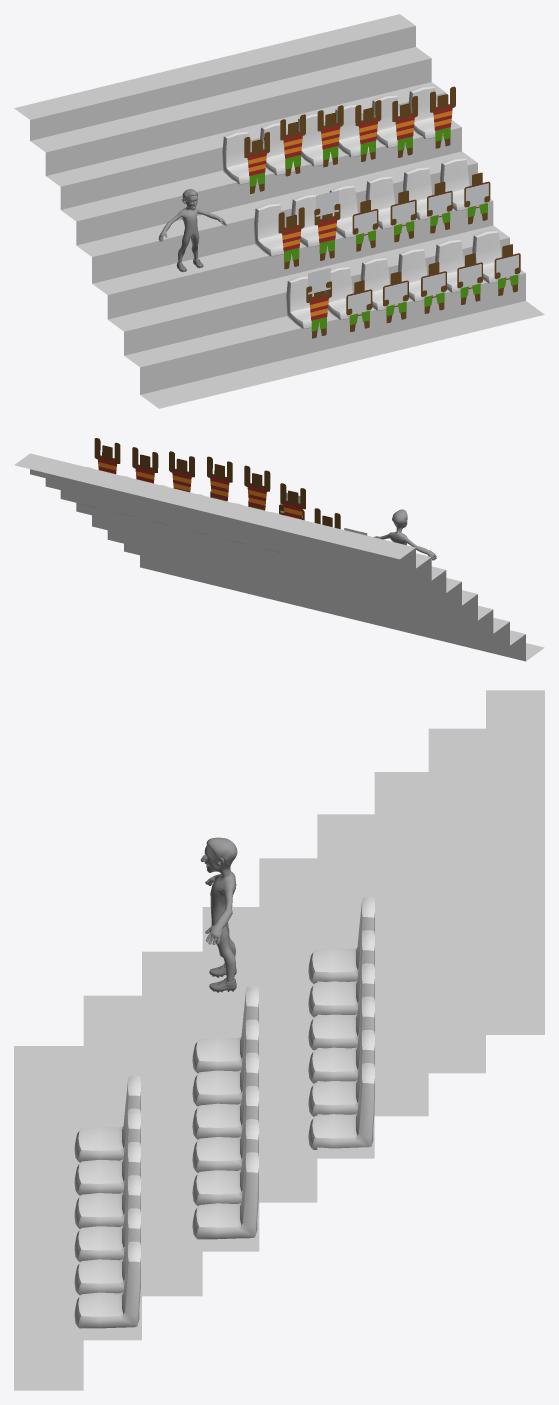
Rendered from camera.fbx.
3 renders of one model, top to bottom at view 1: azimuth 30°, elevation 25°; view 2: azimuth 150°, elevation 25°; view 3: azimuth 270°, elevation 25°, orthographic. The views are drawn at different scales.
Visible parts, largest first — view 1: Line001, Object002, Object018, Box007, Maos, Box013, Box010, Box012, Box001, Box006, Box004, Object013 (+26 smaller); view 2: Line001, Object012, Object013, Object014, Object016, Object015, Object011, Maos, Object001; view 3: Line001, Box012, Box006, Box018, Maos, Box003, Box008, Box007, Box010, Box009, Box013, Box002 (+8 smaller).
Part boxes in pixels (<box>): Line001: <box>14,14,544,408</box>; Object002: <box>314,190,340,260</box>; Object018: <box>306,268,331,338</box>; Box007: <box>254,203,283,256</box>; Maos: <box>158,195,226,263</box>; Box013: <box>222,131,257,184</box>; Box010: <box>365,176,394,229</box>; Box012: <box>440,157,469,210</box>; Box001: <box>286,275,327,328</box>; Box006: <box>472,230,509,283</box>; Box004: <box>398,248,435,301</box>; Object013: <box>317,105,343,167</box>; Line001: <box>14,453,544,661</box>; Object012: <box>244,465,270,510</box>; Object013: <box>207,456,232,501</box>; Object014: <box>169,451,194,492</box>; Object016: <box>94,438,120,474</box>; Object015: <box>132,447,158,483</box>; Object011: <box>280,483,305,519</box>; Maos: <box>373,518,436,560</box>; Object001: <box>314,508,340,528</box>; Line001: <box>14,690,544,1390</box>; Box012: <box>192,1152,258,1239</box>; Box006: <box>74,1241,140,1328</box>; Box018: <box>308,1063,374,1149</box>; Maos: <box>200,845,236,982</box>; Box003: <box>74,1142,140,1228</box>; Box008: <box>192,1019,258,1106</box>; Box007: <box>192,986,258,1073</box>; Box010: <box>192,1086,258,1172</box>; Box009: <box>192,1052,258,1139</box>; Box013: <box>308,897,374,983</box>; Box002: <box>74,1108,140,1195</box>.
Size of the model in its own units: 942 by 454 by 614.
Materials: 3 (1 with a texture image).
